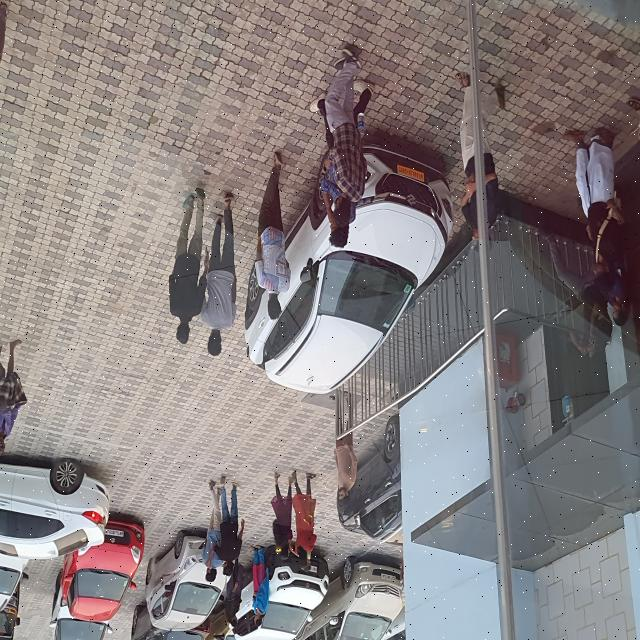humans: (307, 74, 384, 251), (560, 122, 628, 294), (535, 216, 610, 371), (458, 68, 514, 254), (320, 41, 366, 227), (162, 180, 210, 350), (199, 184, 242, 358), (253, 145, 295, 321), (207, 464, 250, 580), (326, 388, 361, 511), (582, 260, 633, 338), (289, 454, 322, 567), (0, 331, 27, 465), (267, 459, 297, 563), (198, 474, 222, 584), (249, 544, 274, 632), (220, 556, 250, 629)
